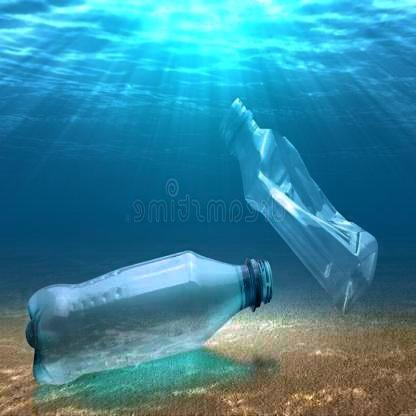pbottle: (220, 98, 380, 316), (24, 251, 273, 387)
